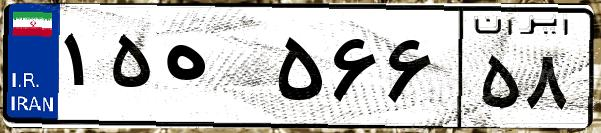1: (57, 26, 110, 100)
5: (270, 28, 330, 110), (475, 38, 525, 113), (110, 28, 158, 98)
6: (385, 28, 445, 110), (330, 28, 385, 110)
8: (525, 38, 570, 115)
ه: (158, 20, 270, 120)
